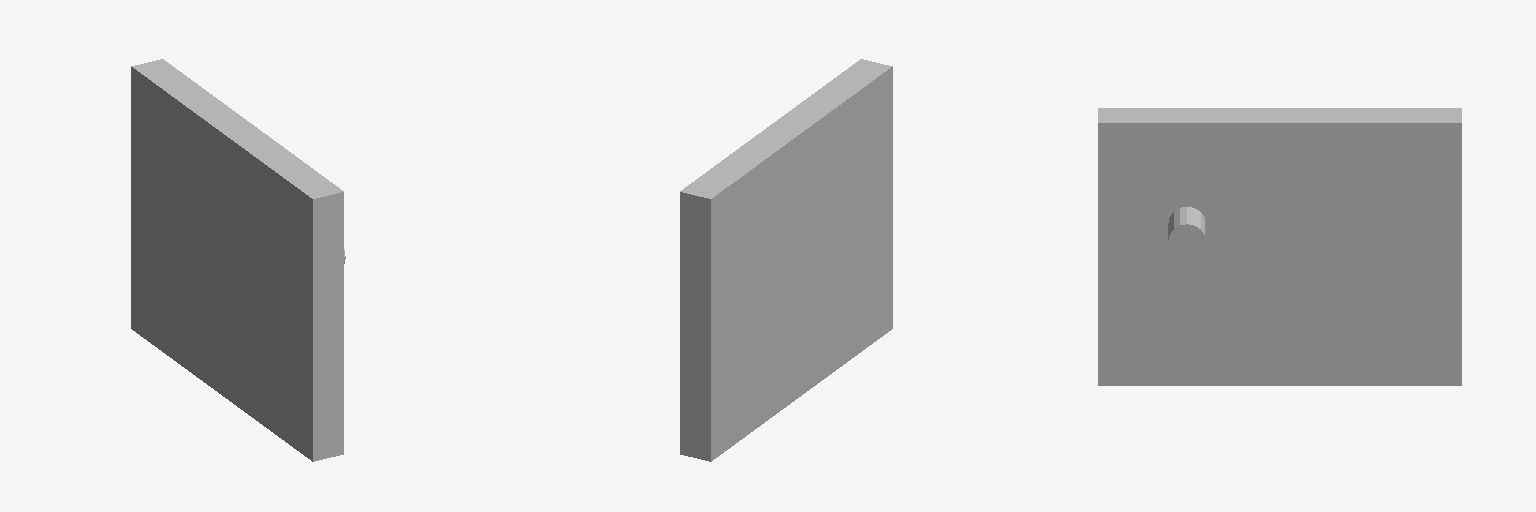
Rendered from CajaFuertePuerta.obj.
3 renders of one model, left to right at view 1: azimuth 30°, elevation 25°; view 2: azimuth 150°, elevation 25°; view 3: azimuth 270°, elevation 25°, orthographic.
Parts seen in each view (by area): view 1: Cubo.001_Cubo.004; view 2: Cubo.001_Cubo.004; view 3: Cubo.001_Cubo.004, Cilindro.001.
Boxes of the visible parts, <box> form: Cubo.001_Cubo.004: <box>131,59,343,461</box>; Cubo.001_Cubo.004: <box>680,59,892,461</box>; Cubo.001_Cubo.004: <box>1098,108,1461,385</box>; Cilindro.001: <box>1168,207,1205,324</box>.
Bounding box in the file's own units: 0.2154 × 0.8 × 1.